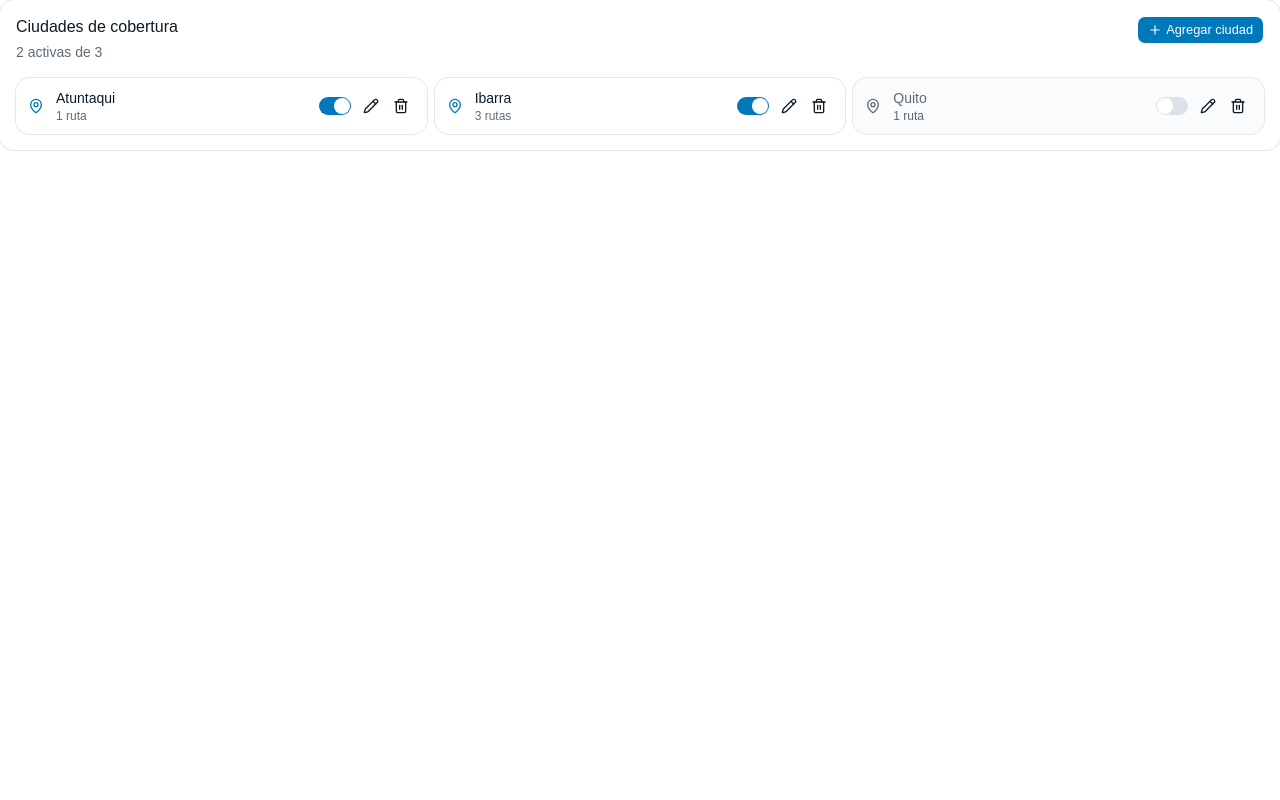
Test case: CiudadesCobertura › ADMIN no puede agregar un nombre de menos de 2 caracteres
Click the button "Agregar ciudad" at point(1201, 30), box left=1137, top=16, right=1264, bottom=44
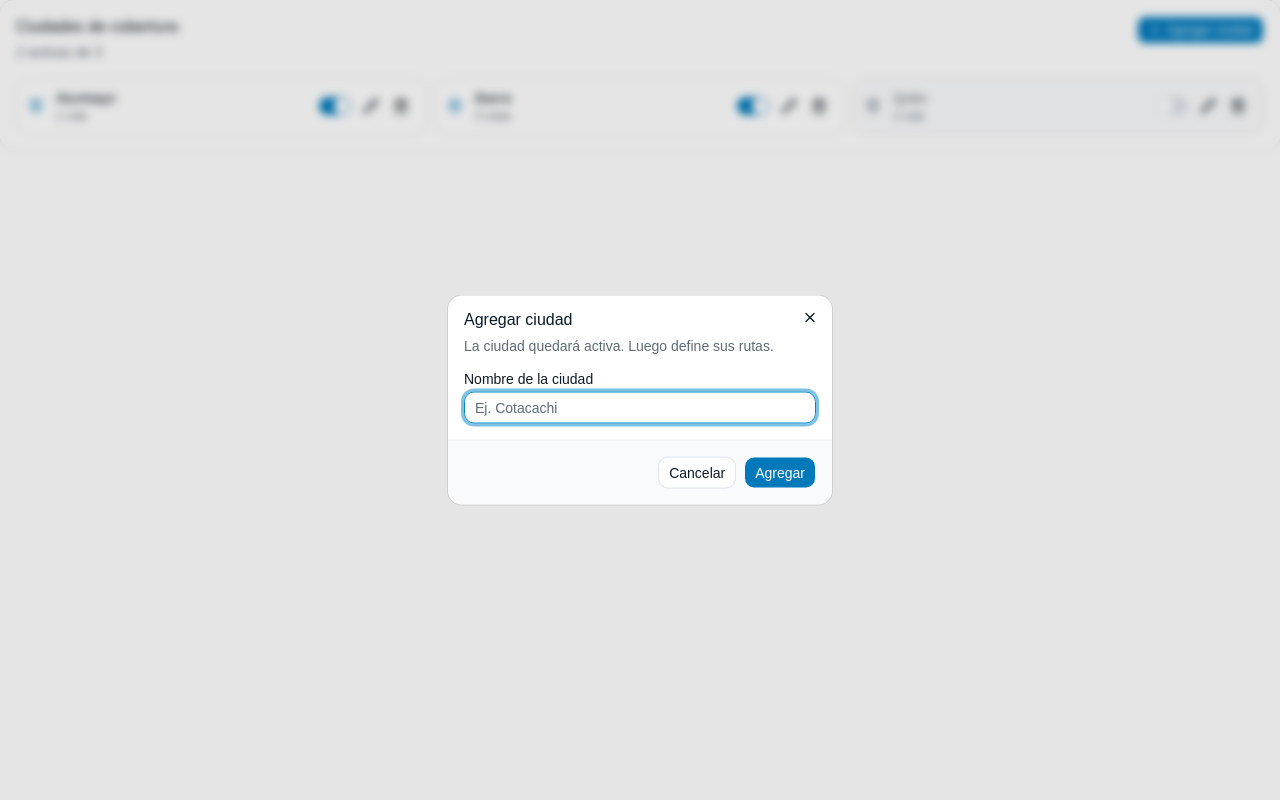
Type " A " into the field labelled "Nombre de la ciudad" at point(640, 408), box left=464, top=392, right=816, bottom=424
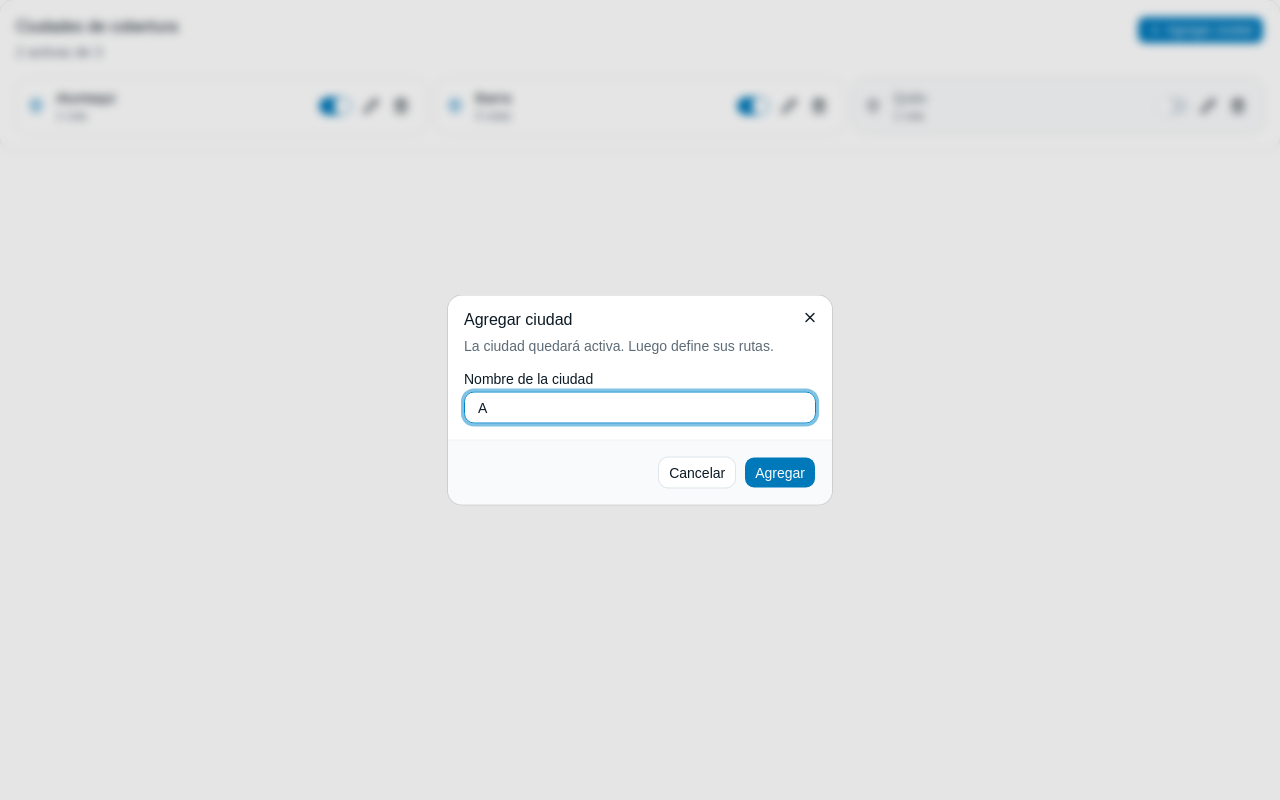
Click the button "Agregar" at point(780, 472), box left=744, top=456, right=816, bottom=488
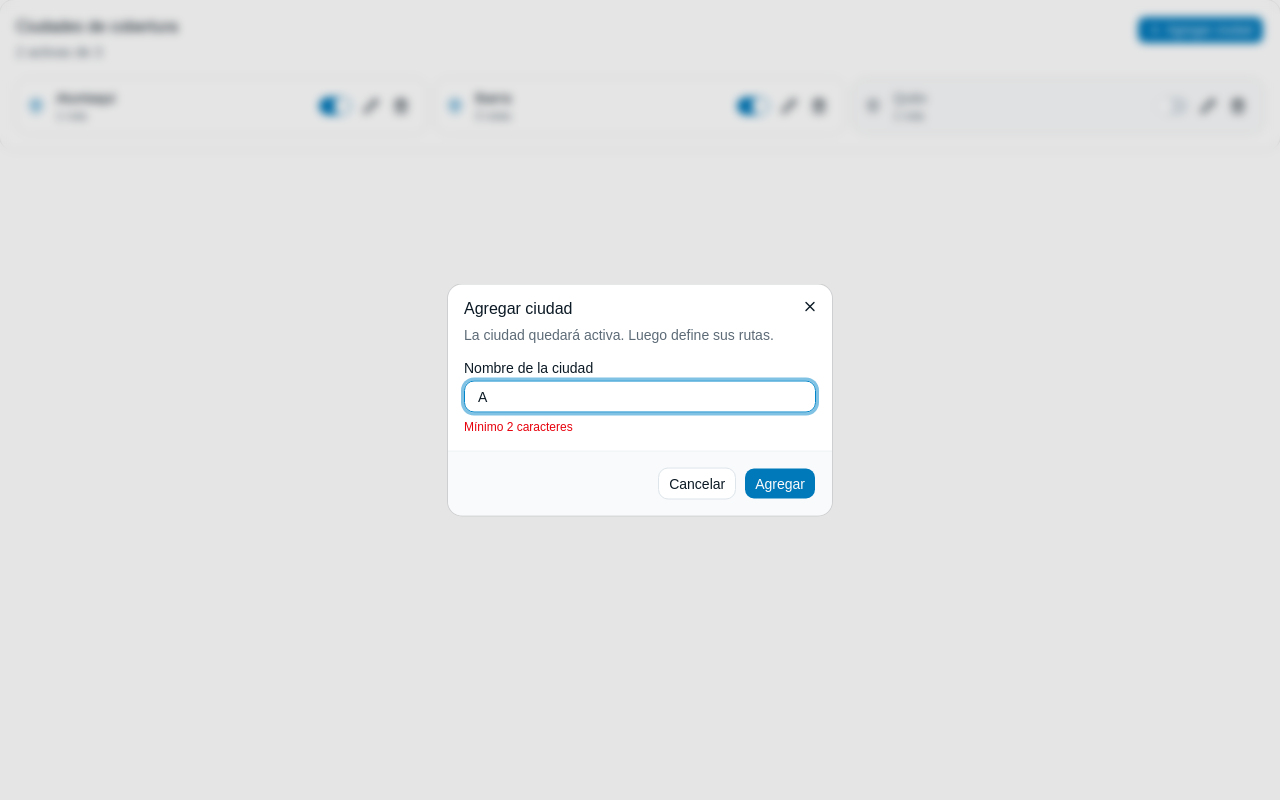
Expected: the text "Mínimo 2 caracteres" is shown, left=464, top=420, right=573, bottom=434
